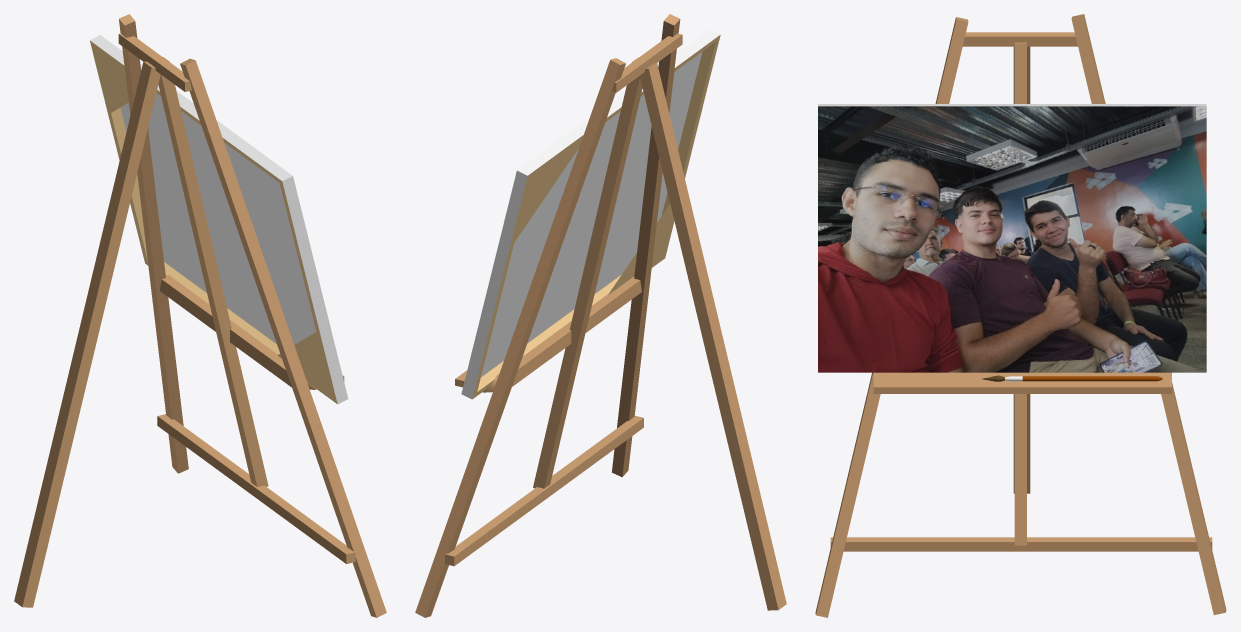
File: Sem título.glb
3 views of the same model, side by side, from view 1: azimuth 30°, elevation 25°; view 2: azimuth 150°, elevation 25°; view 3: azimuth 270°, elevation 25° (orthographic).
Parts seen in each view (by area): view 1: cavalete:pCube9, pintura:pCube1; view 2: cavalete:pCube9, pintura:pCube1; view 3: pintura:pCube1, cavalete:pCube9, pCone2_vermelho_pincel_0.
Boxes of the visible parts, x1,y1,x2,y2 form: cavalete:pCube9: (14,14,386,617); pintura:pCube1: (90,35,348,404); cavalete:pCube9: (415,14,786,617); pintura:pCube1: (461,29,720,399); pintura:pCube1: (818,104,1206,372); cavalete:pCube9: (815,14,1226,617); pCone2_vermelho_pincel_0: (1022,376,1162,381).
Size of the model in its own units: 1.05 by 2.03 by 1.39.
Materials: 7 (1 with a texture image).
